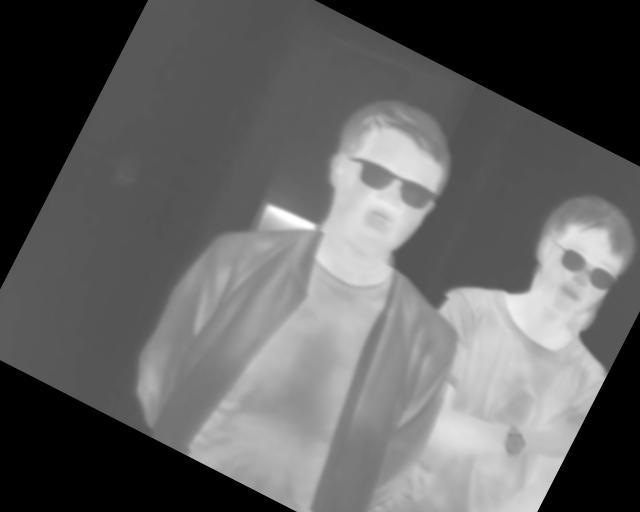face: (294, 79, 474, 273), (511, 178, 640, 330)
